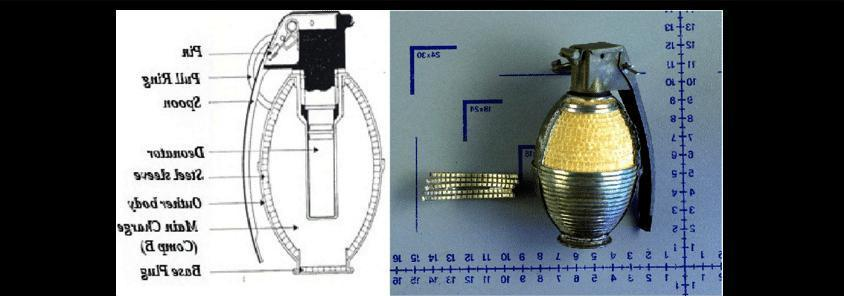Grenade: (241, 10, 384, 275), (532, 41, 654, 250)
